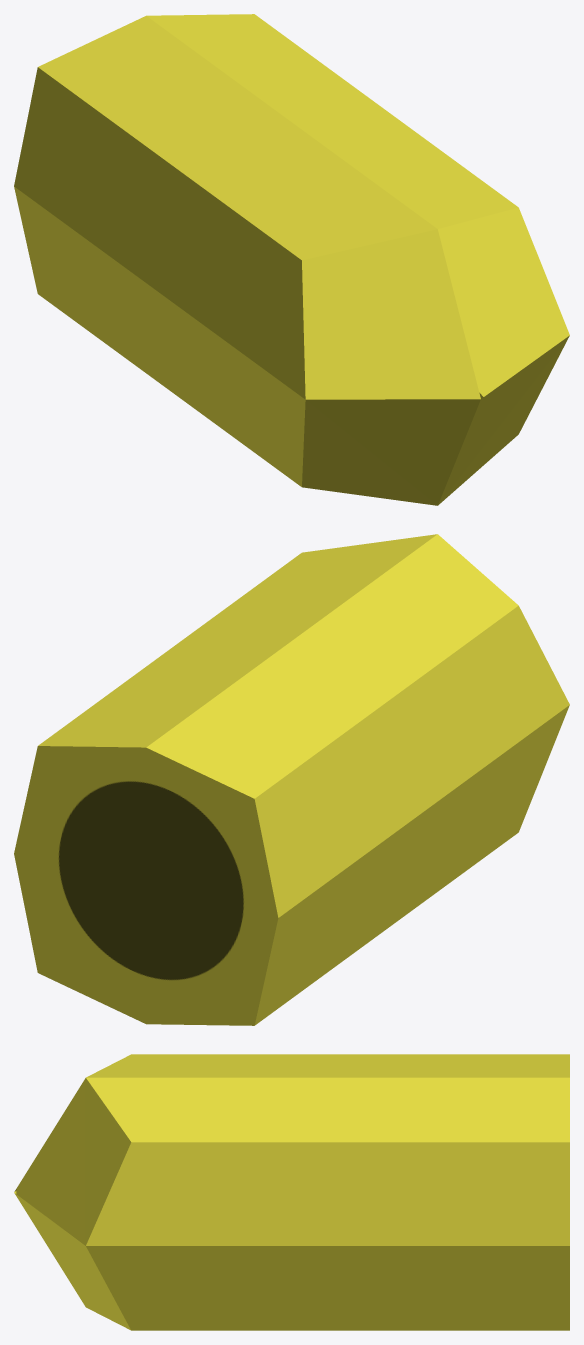
File: Bullet.obj
3 views of the same model, one above another, from view 1: azimuth 30°, elevation 25°; view 2: azimuth 150°, elevation 25°; view 3: azimuth 270°, elevation 25° (orthographic). The views are drawn at different scales.
Parts seen in each view (by area): view 1: Cube; view 2: Cube; view 3: Cube.
Boxes of the visible parts, left/top/right/bottom form: Cube: left=14, top=14, right=569, bottom=505; Cube: left=14, top=534, right=569, bottom=1025; Cube: left=14, top=1054, right=569, bottom=1330.
Bounding box in the file's own units: 0.6096 × 0.6096 × 1.34.
Materials: 1 (1 with a texture image).
